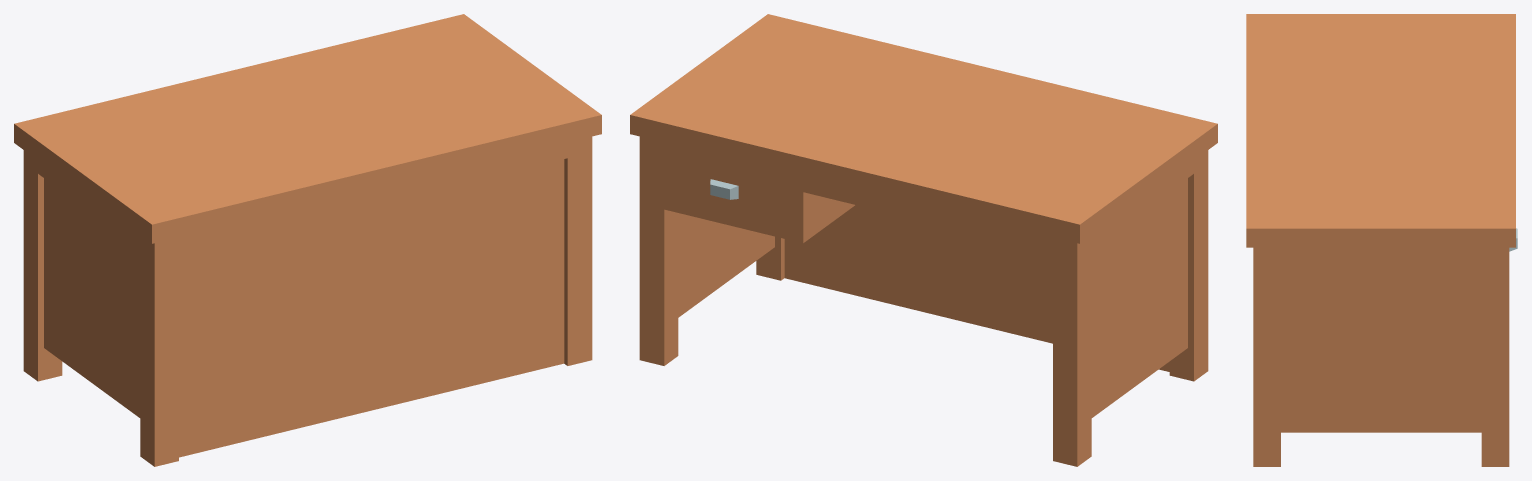
The model's file is desk.gltf.
3 views of the same model, side by side, from view 1: azimuth 30°, elevation 25°; view 2: azimuth 150°, elevation 25°; view 3: azimuth 270°, elevation 25° (orthographic). The views are drawn at different scales.
Visible parts, largest first — view 1: desk; view 2: desk; view 3: desk.
Boxes of the visible parts, x1,y1,x2,y2 form: desk: (14, 14, 601, 466); desk: (630, 14, 1217, 466); desk: (1246, 14, 1517, 466).
Size of the model in its own units: 0.7345 by 0.3844 by 0.3923.
Materials: 1 (1 with a texture image).
